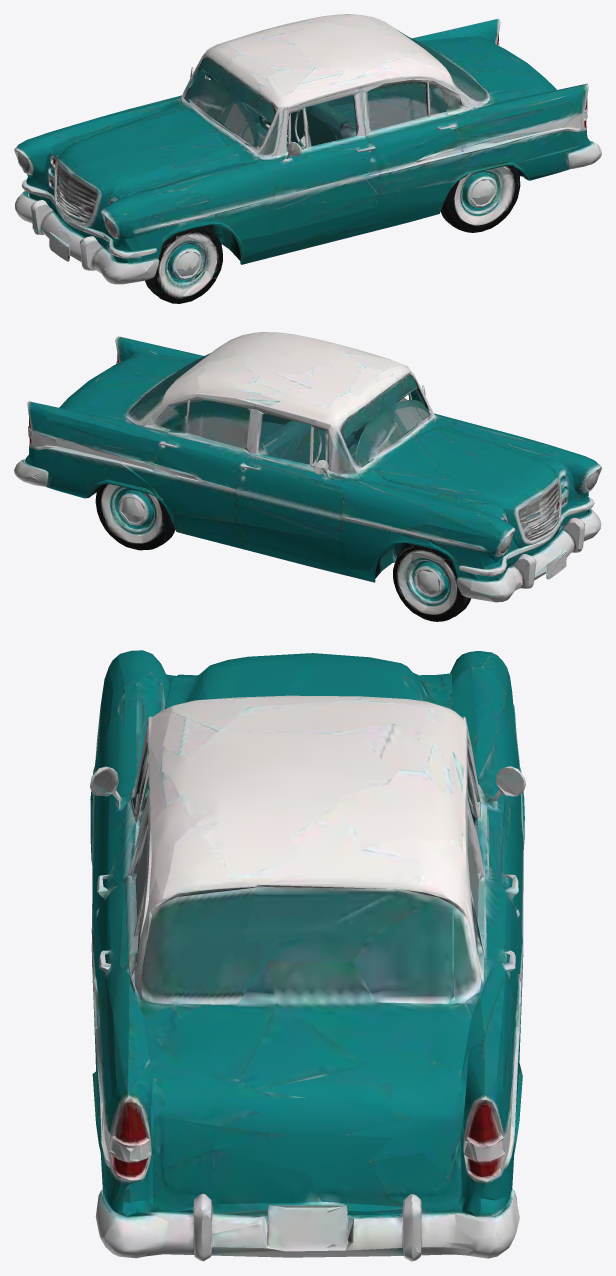
File: car1.glb
The picture shows the model from 3 angles, top to bottom: view 1: azimuth 30°, elevation 25°; view 2: azimuth 150°, elevation 25°; view 3: azimuth 270°, elevation 25°; orthographic projection. The views are drawn at different scales.
Visible parts, largest first — view 1: Mesh_0; view 2: Mesh_0; view 3: Mesh_0.
Boxes of the visible parts, x1,y1,x2,y2 form: Mesh_0: (14, 14, 601, 303); Mesh_0: (14, 332, 601, 621); Mesh_0: (90, 650, 525, 1261).
Bounding box in the file's own units: 1.9 × 0.674 × 0.7181.
Materials: 1 (1 with a texture image).
